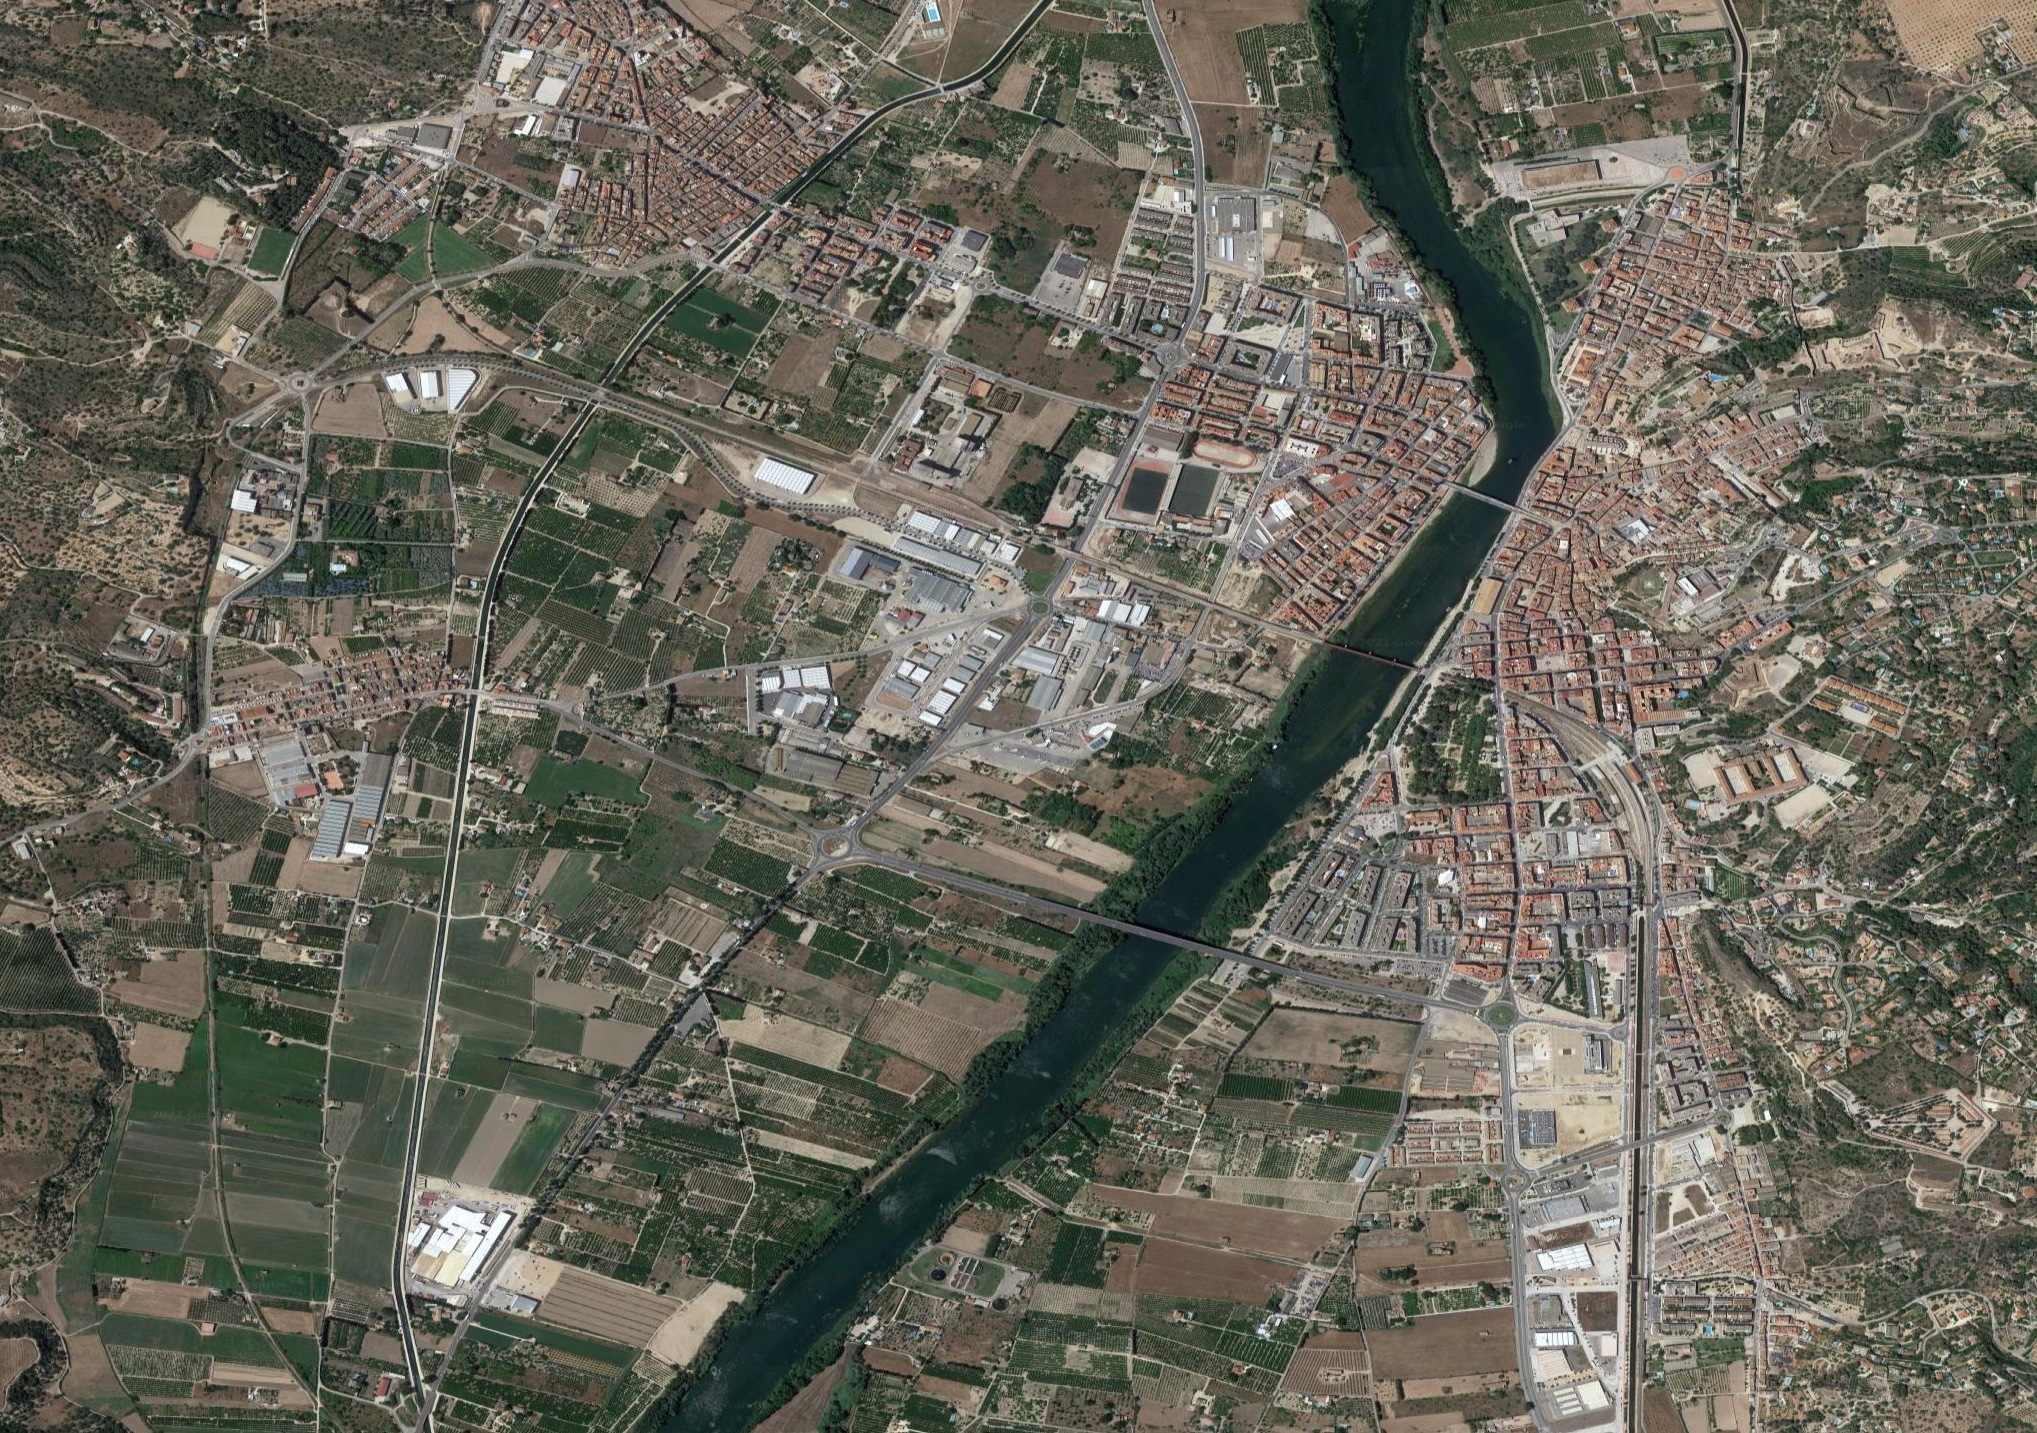bridge: (1096, 907, 1218, 969), (1315, 628, 1437, 690), (1429, 465, 1550, 527)
industrial: (777, 492, 1070, 785), (1518, 1199, 1629, 1416)
